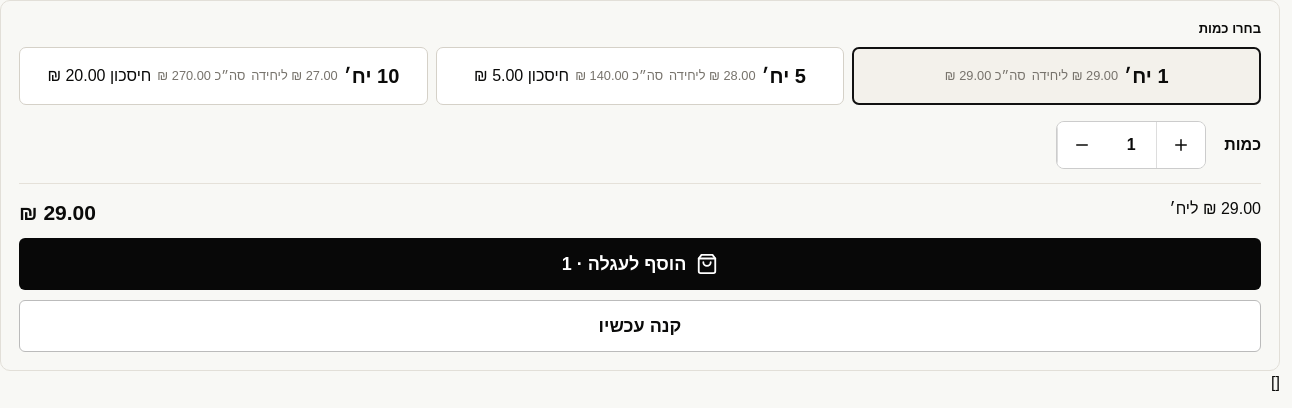
Scenario: adds the selected quantity to actual CartProvider state once
Click the button with aria-label "5 יחידות" at (640, 76), box [436,46,844,104]
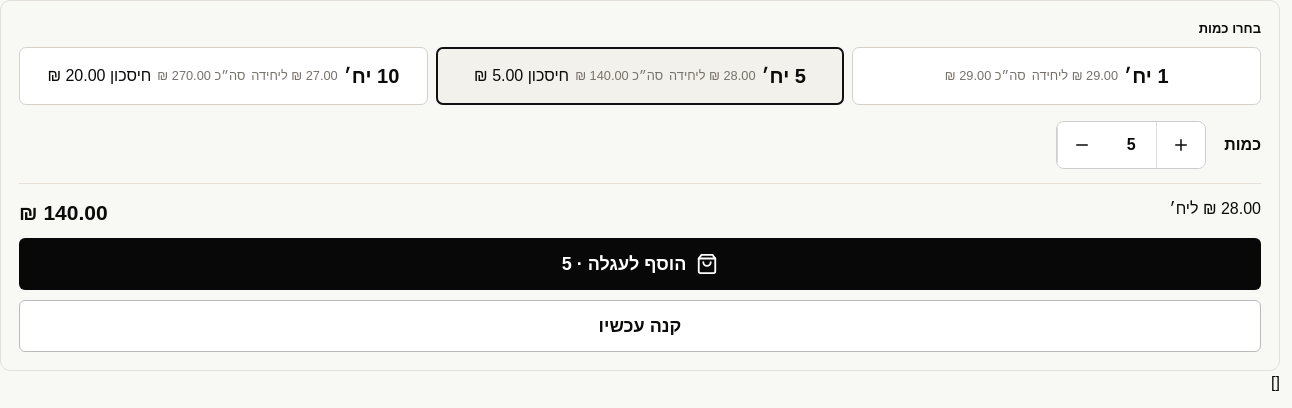
Click the button "הוסף לעגלה · 5" at (640, 264), box [19,238,1261,290]
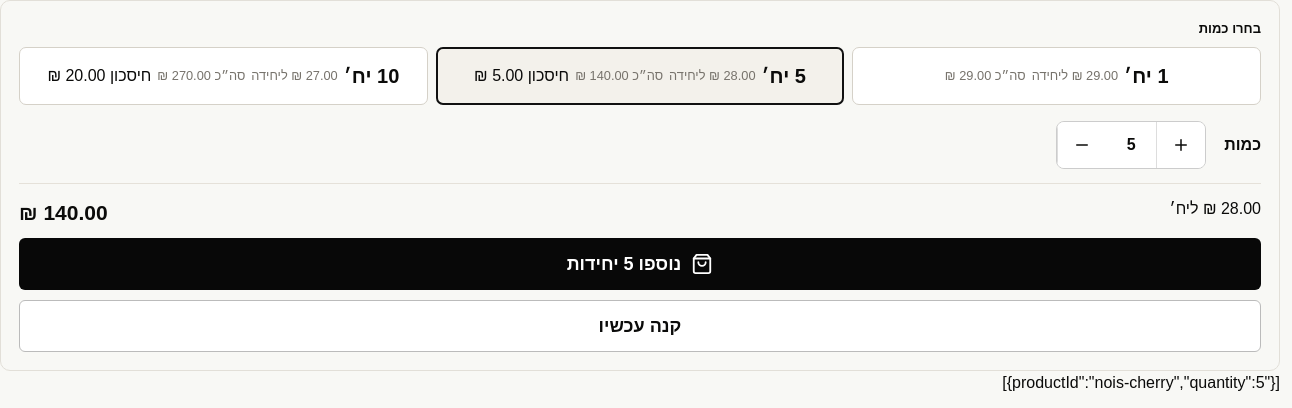
Now the button with aria-label "נוספו 5 יחידות לעגלה" is shown, box [19,238,1261,290]
